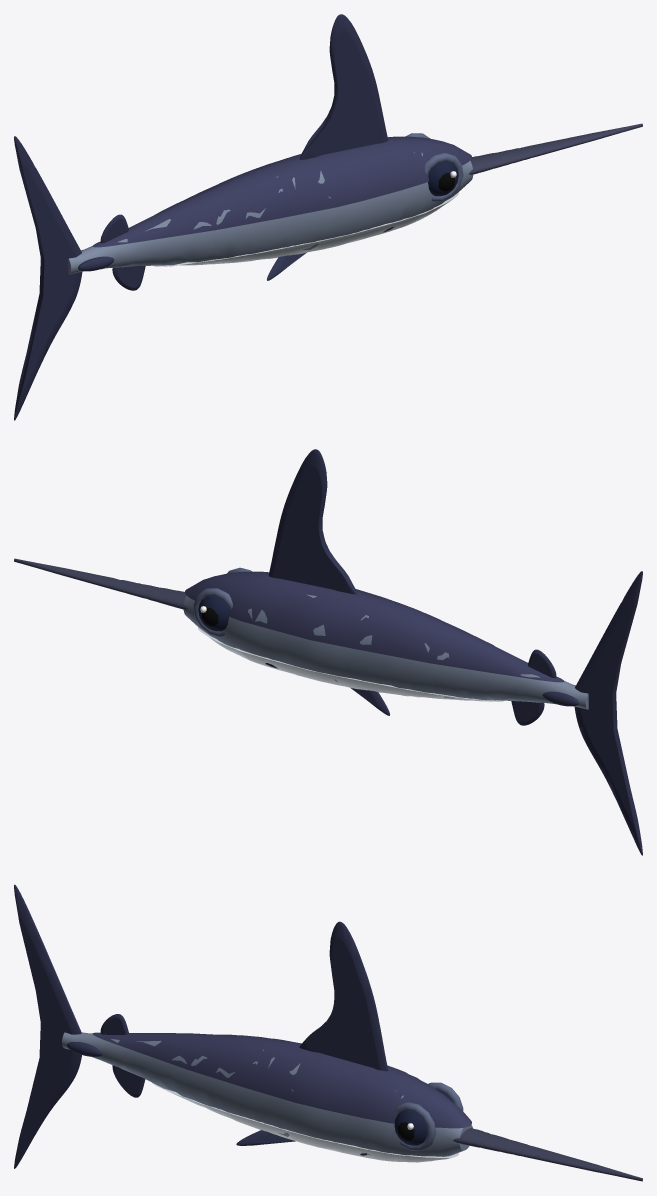
Rendered from swordfish.glb.
3 views of the same model, one above another, from view 1: azimuth 30°, elevation 25°; view 2: azimuth 150°, elevation 25°; view 3: azimuth 330°, elevation 25° (orthographic).
Parts seen in each view (by area): view 1: Fins, Back, Body, Belly, Sword, EyeRims, Irises; view 2: Fins, Back, Body, Belly, Sword, EyeRims, Irises; view 3: Back, Fins, Body, Sword, Belly, EyeRims, Irises.
Part boxes in pixels (x1=…): Fins: x1=14, y1=14, x2=393, y2=420; Back: x1=92, y1=136, x2=471, y2=247; Body: x1=68, y1=152, x2=473, y2=274; Belly: x1=152, y1=192, x2=458, y2=266; Sword: x1=469, y1=123, x2=642, y2=174; EyeRims: x1=405, y1=133, x2=463, y2=201; Irises: x1=428, y1=161, x2=458, y2=196; Fins: x1=265, y1=449, x2=642, y2=855; Back: x1=185, y1=571, x2=564, y2=682; Body: x1=183, y1=594, x2=588, y2=709; Belly: x1=198, y1=627, x2=504, y2=701; Sword: x1=14, y1=558, x2=187, y2=609; EyeRims: x1=193, y1=567, x2=251, y2=636; Irises: x1=198, y1=596, x2=228, y2=631; Back: x1=92, y1=1032, x2=471, y2=1128; Fins: x1=14, y1=884, x2=388, y2=1168; Body: x1=62, y1=1032, x2=472, y2=1156; Sword: x1=453, y1=1128, x2=642, y2=1181; Belly: x1=152, y1=1083, x2=458, y2=1162; EyeRims: x1=393, y1=1082, x2=463, y2=1150; Irises: x1=394, y1=1089, x2=453, y2=1145.
Bounding box in the file's own units: 0.1571 × 0.0781 × 0.0201.
